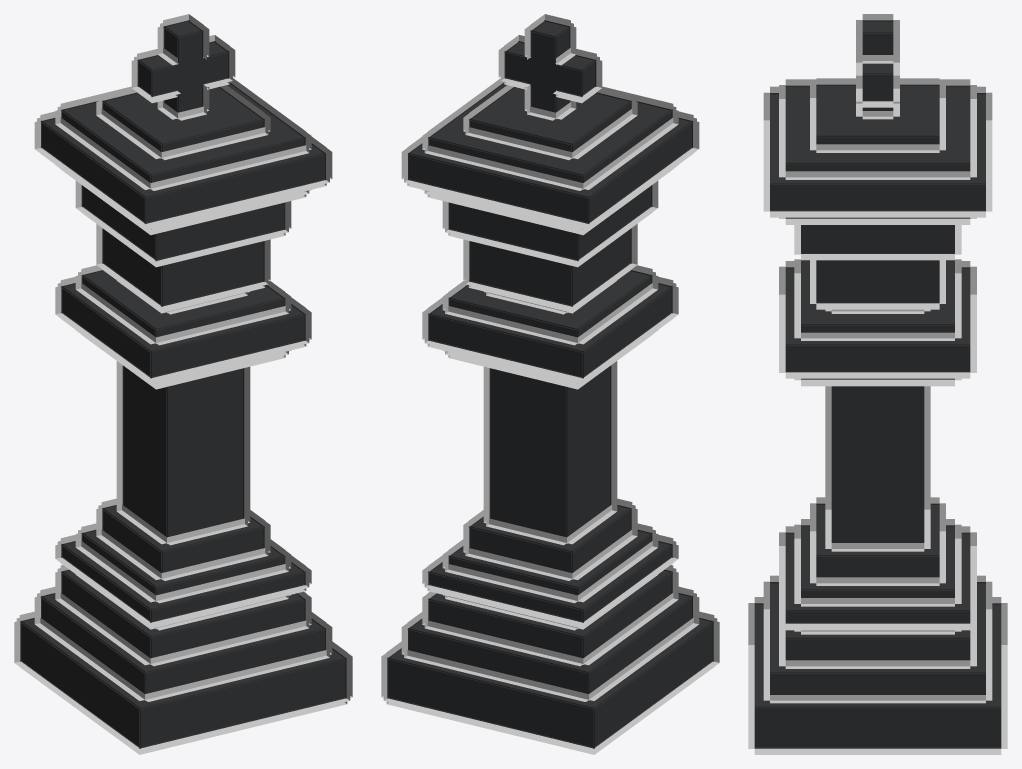
File: black-king.glb
3 views of the same model, side by side, from view 1: azimuth 30°, elevation 25°; view 2: azimuth 150°, elevation 25°; view 3: azimuth 270°, elevation 25° (orthographic). The views are drawn at different scales.
Visible parts, largest first — view 1: chess-king-black_model; view 2: chess-king-black_model; view 3: chess-king-black_model.
Boxes of the visible parts, left/top/right/bottom form: chess-king-black_model: left=14, top=14, right=352, bottom=754; chess-king-black_model: left=381, top=14, right=719, bottom=754; chess-king-black_model: left=748, top=14, right=1007, bottom=754.
Bounding box in the file's own units: 1.68 × 4.88 × 1.68.
Materials: 2 (1 with a texture image).
